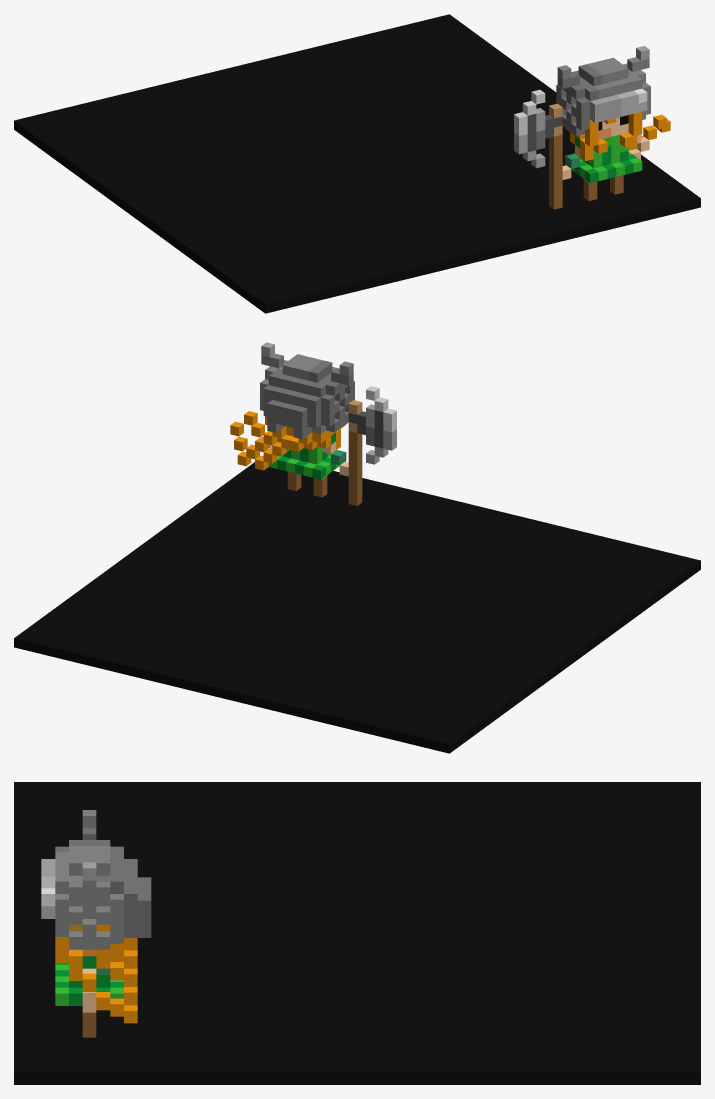
File: kng_red.glb
3 views of the same model, one above another, from view 1: azimuth 30°, elevation 25°; view 2: azimuth 150°, elevation 25°; view 3: azimuth 270°, elevation 25° (orthographic). The views are drawn at different scales.
Bounding box in the file's own units: 50 × 16 × 50.
